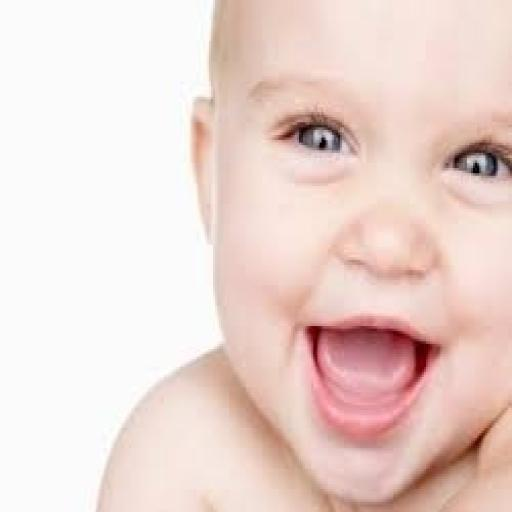laughing: (86, 0, 510, 509)
